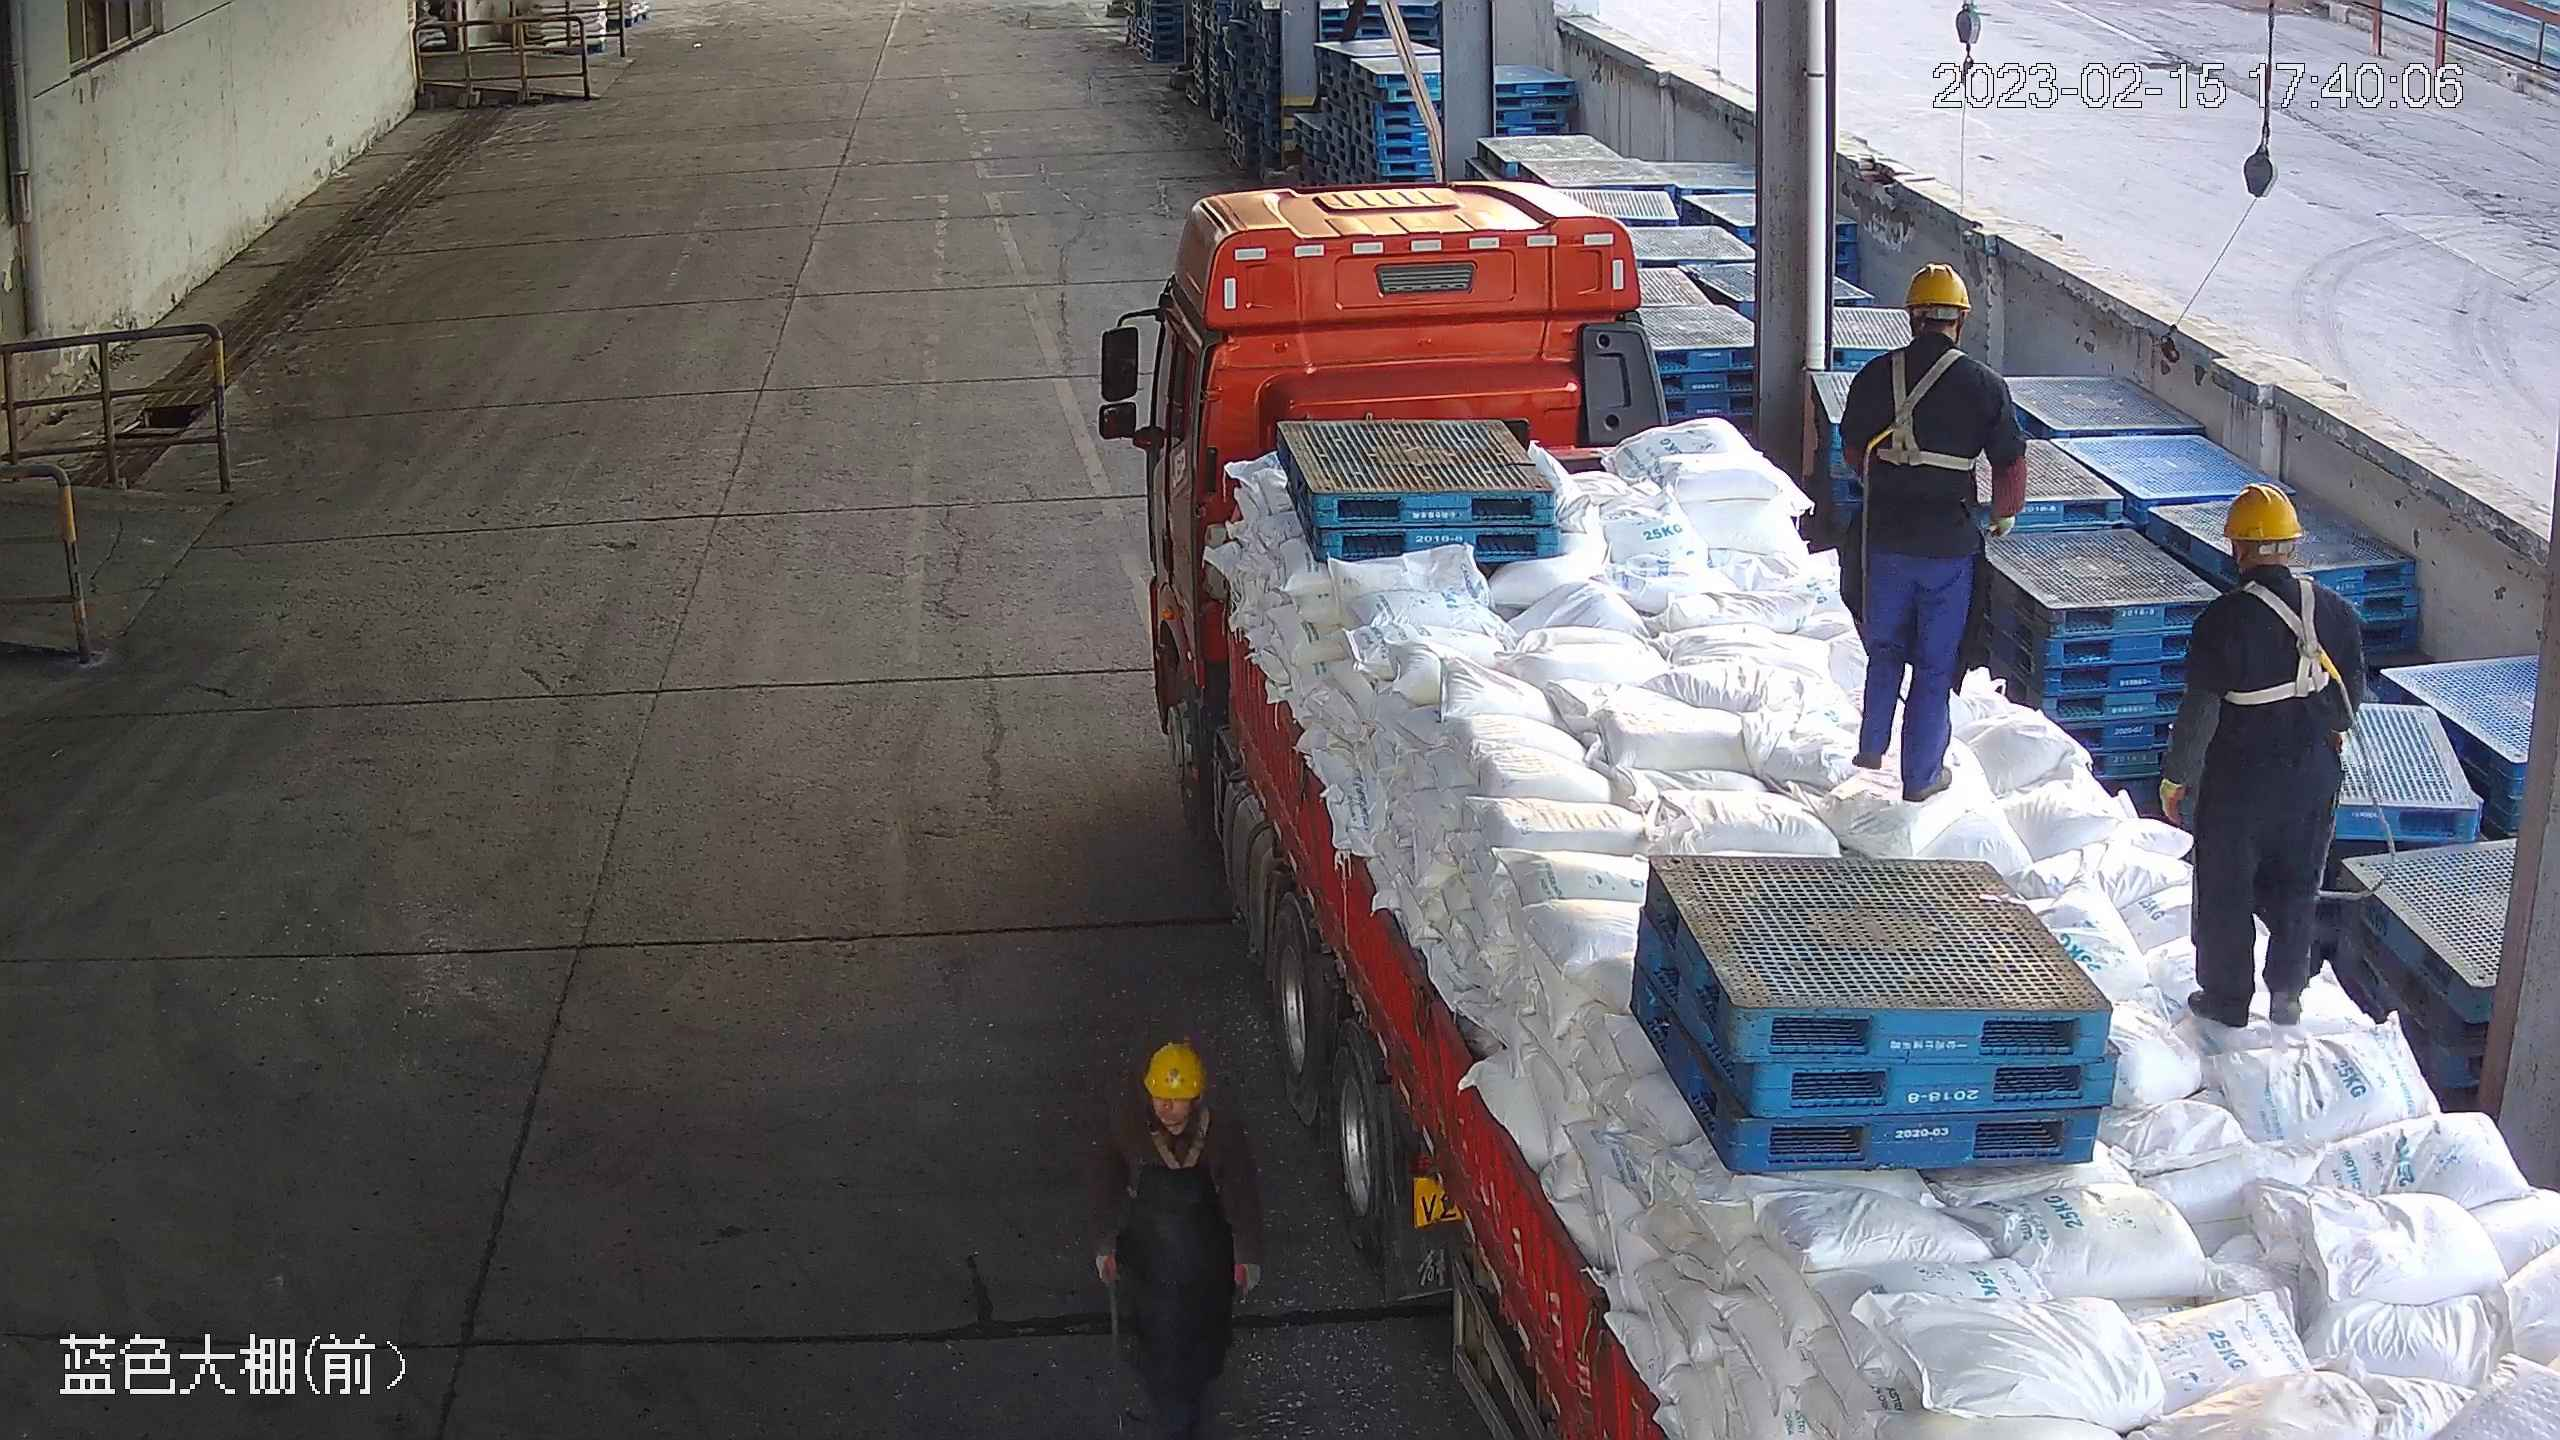belt: (2218, 570, 2347, 707), (1856, 345, 1990, 473)
head: (2186, 480, 2362, 632), (1852, 260, 2012, 404), (1089, 1040, 1258, 1149)
helmet: (2218, 481, 2304, 541), (1138, 1040, 1212, 1101), (1903, 260, 1972, 309)
people: (2157, 484, 2370, 1032), (1828, 257, 2038, 802), (1091, 1037, 1265, 1440)
truck: (1141, 178, 2560, 1440)
